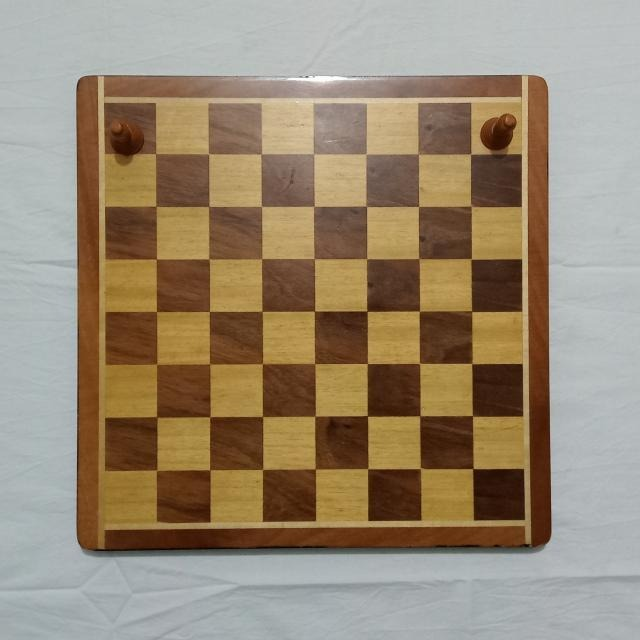white-pawn: (478, 109, 521, 153), (107, 116, 145, 156)
